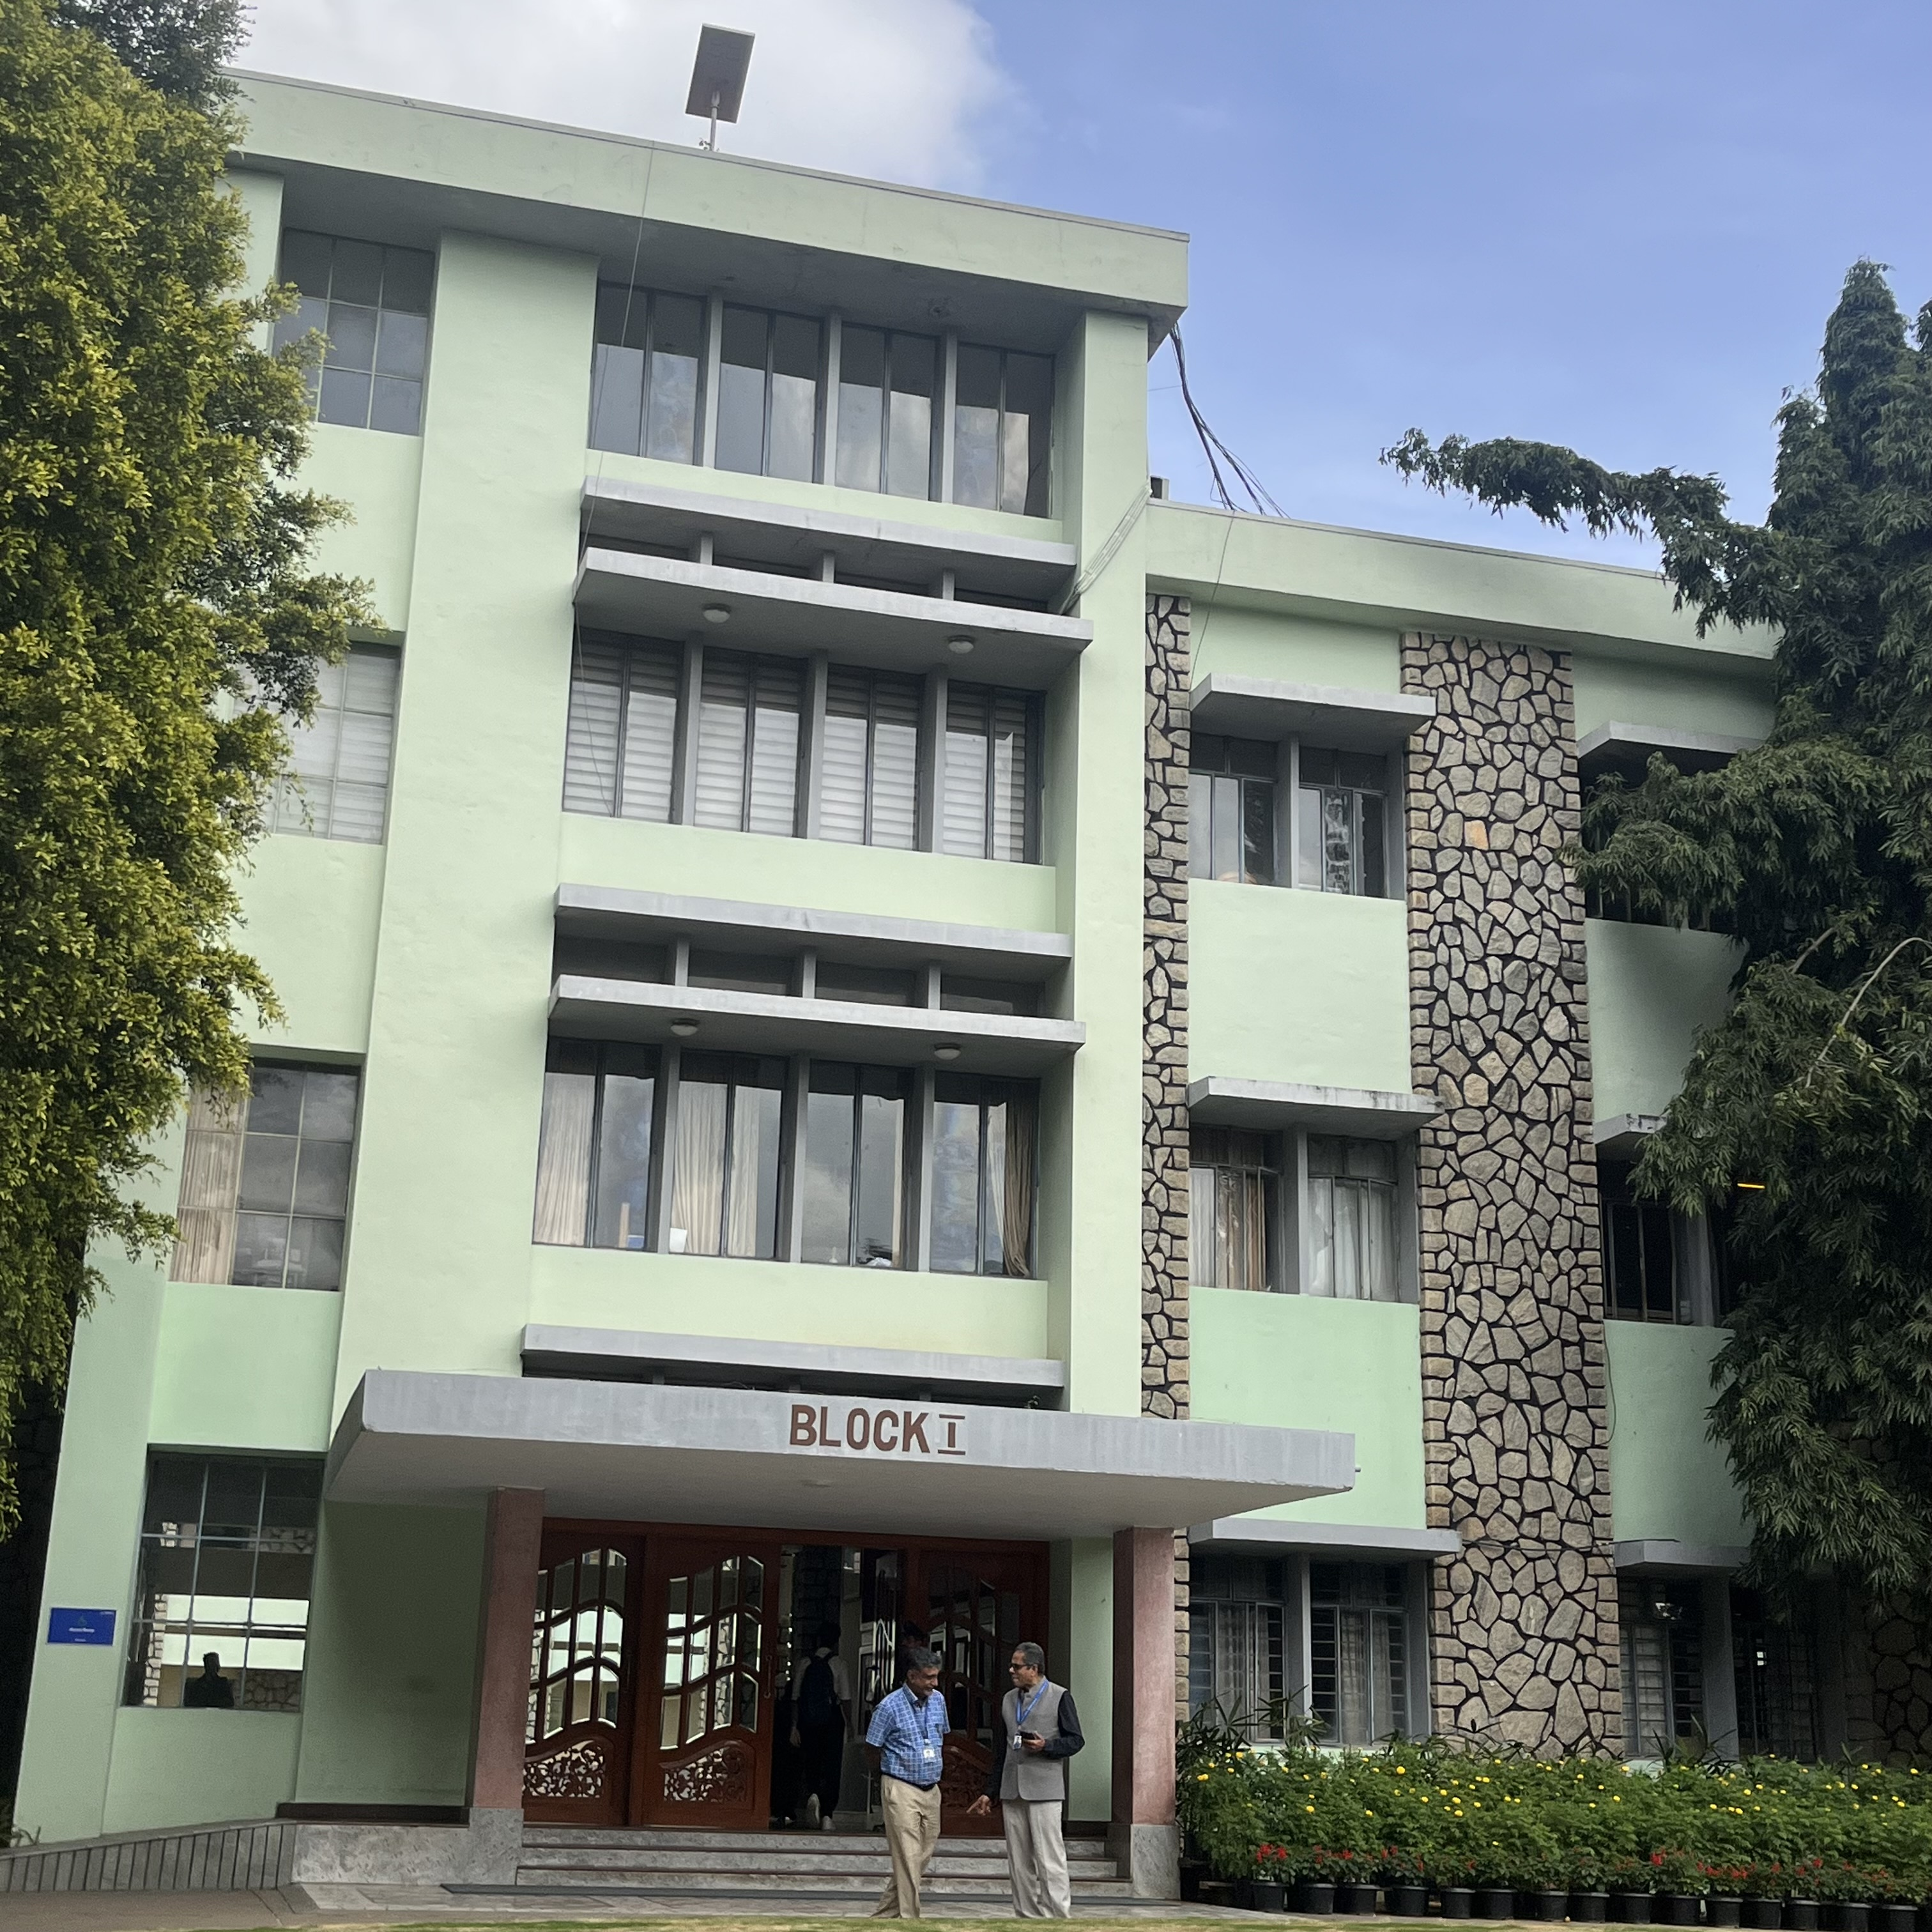Block 1: (272, 18, 1734, 1829)
